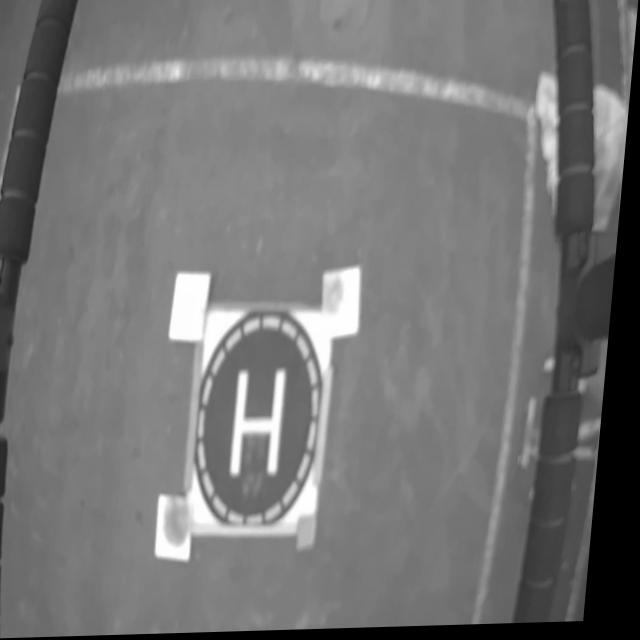Helipad: (239, 372, 293, 481)
